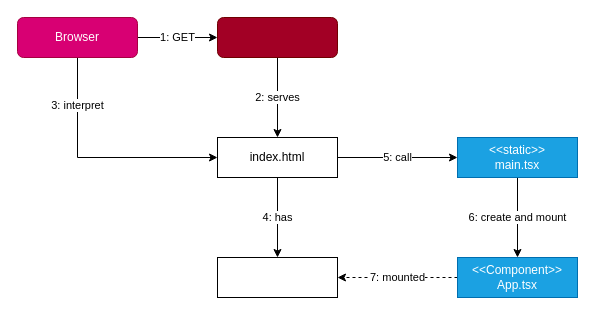
Some shapes in this 595 by 315 pixel diagram are drawn without their labels. The centre of each missing label's shape, as x and y in pixels:
"<div id=root />" belongs at pixel 277 277.
"vite dev http server http://localhost:5173" belongs at pixel 277 37.
